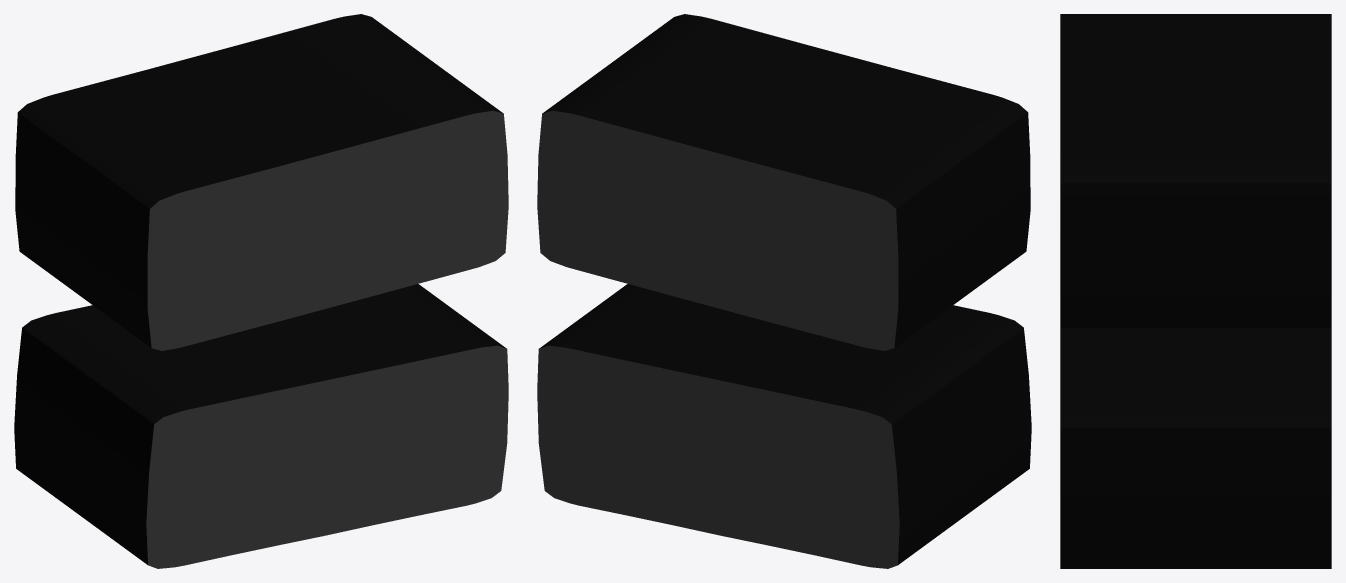
Rendered from 382c9427-aee4-4957-8f97-565aa5b2c2c4.glb.
3 views of the same model, side by side, from view 1: azimuth 30°, elevation 25°; view 2: azimuth 150°, elevation 25°; view 3: azimuth 270°, elevation 25° (orthographic). The views are drawn at different scales.
Parts seen in each view (by area): view 1: =_Zyzol_Black; view 2: =_Zyzol_Black; view 3: =_Zyzol_Black.
Boxes of the visible parts, x1,y1,x2,y2 form: =_Zyzol_Black: (14, 14, 508, 568); =_Zyzol_Black: (537, 14, 1031, 568); =_Zyzol_Black: (1060, 14, 1331, 568).
Size of what is drawn, in the model's own units: 0.0713 by 0.0733 by 0.045.
Materials: 2 (2 with a texture image).
